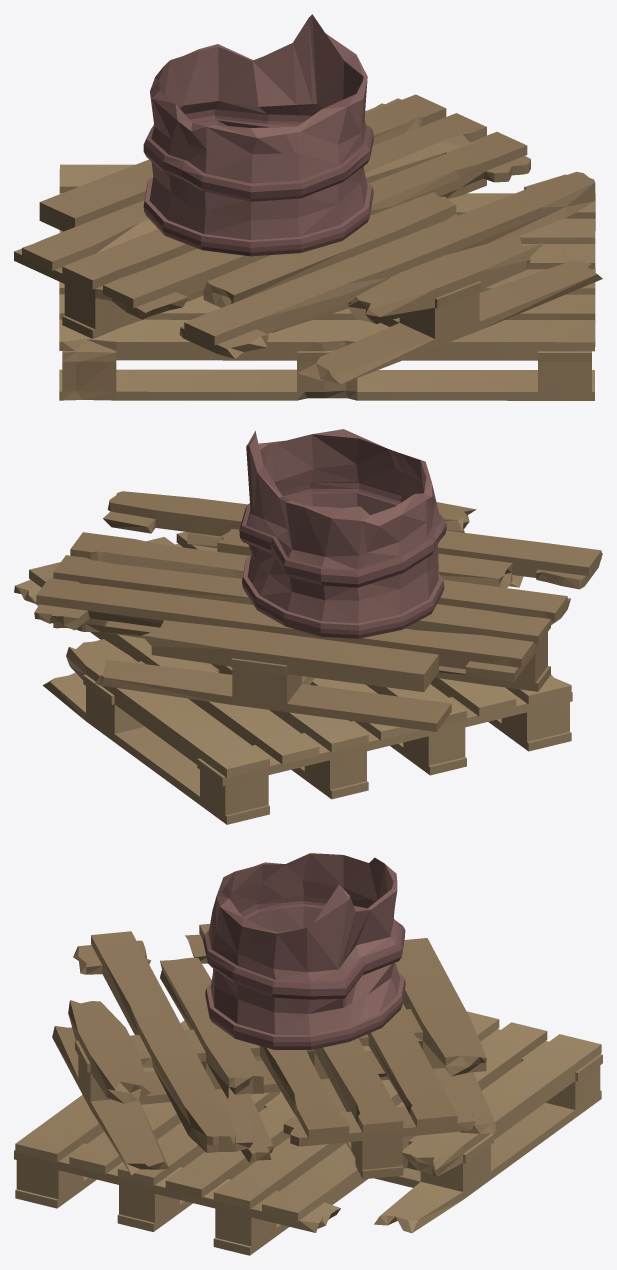
Rendered from pallet_cluster_2.obj.
3 views of the same model, one above another, from view 1: azimuth 30°, elevation 25°; view 2: azimuth 150°, elevation 25°; view 3: azimuth 270°, elevation 25° (orthographic). The views are drawn at different scales.
Parts seen in each view (by area): view 1: pallet_cluster_2_Mesh; view 2: pallet_cluster_2_Mesh; view 3: pallet_cluster_2_Mesh.
Part boxes in pixels (x1,y1,x2,y2): pallet_cluster_2_Mesh: (14,14,602,400); pallet_cluster_2_Mesh: (14,429,602,824); pallet_cluster_2_Mesh: (14,853,602,1255).
Size of the model in its own units: 1.94 by 0.9463 by 1.9.
